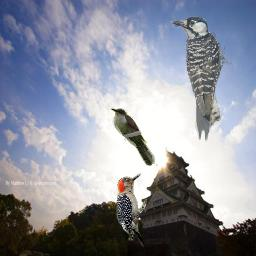Cuckoo: (110, 107, 155, 166)
Woodpecker: (170, 16, 233, 143), (114, 172, 147, 251)
